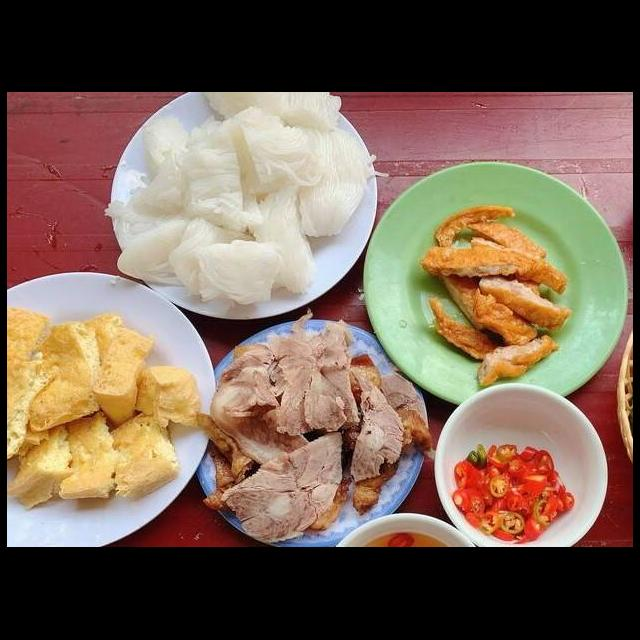bun: (98, 94, 386, 318)
cha com: (410, 194, 575, 394)
dau hu: (8, 298, 207, 512)
thit heo: (192, 313, 444, 546)
